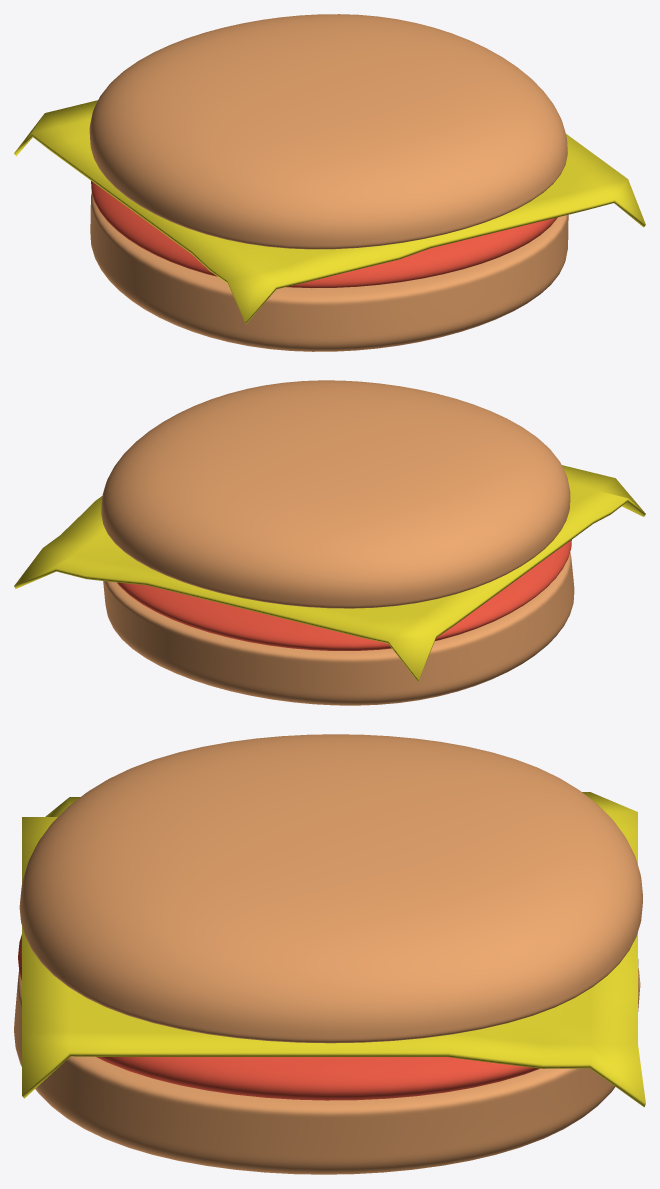
The model's file is hamburger.glb.
3 views of the same model, one above another, from view 1: azimuth 30°, elevation 25°; view 2: azimuth 150°, elevation 25°; view 3: azimuth 270°, elevation 25° (orthographic). The views are drawn at different scales.
Parts seen in each view (by area): view 1: Cube.002, Cube, Plane, Cube.001; view 2: Cube.002, Cube, Plane, Cube.001; view 3: Cube.002, Cube, Plane, Cube.001.
Boxes of the visible parts, x1,y1,x2,y2 form: Cube.002: (89, 14, 567, 249); Cube: (90, 193, 568, 351); Plane: (14, 100, 645, 324); Cube.001: (91, 181, 557, 288); Cube.002: (101, 380, 570, 608); Cube: (103, 552, 574, 705); Plane: (14, 465, 645, 681); Cube.001: (117, 540, 571, 650); Cube.002: (19, 734, 642, 1043); Cube: (14, 968, 640, 1174); Plane: (22, 792, 645, 1107); Cube.001: (18, 934, 539, 1100).
Size of the model in its own units: 9.56 by 4.22 by 9.49.
